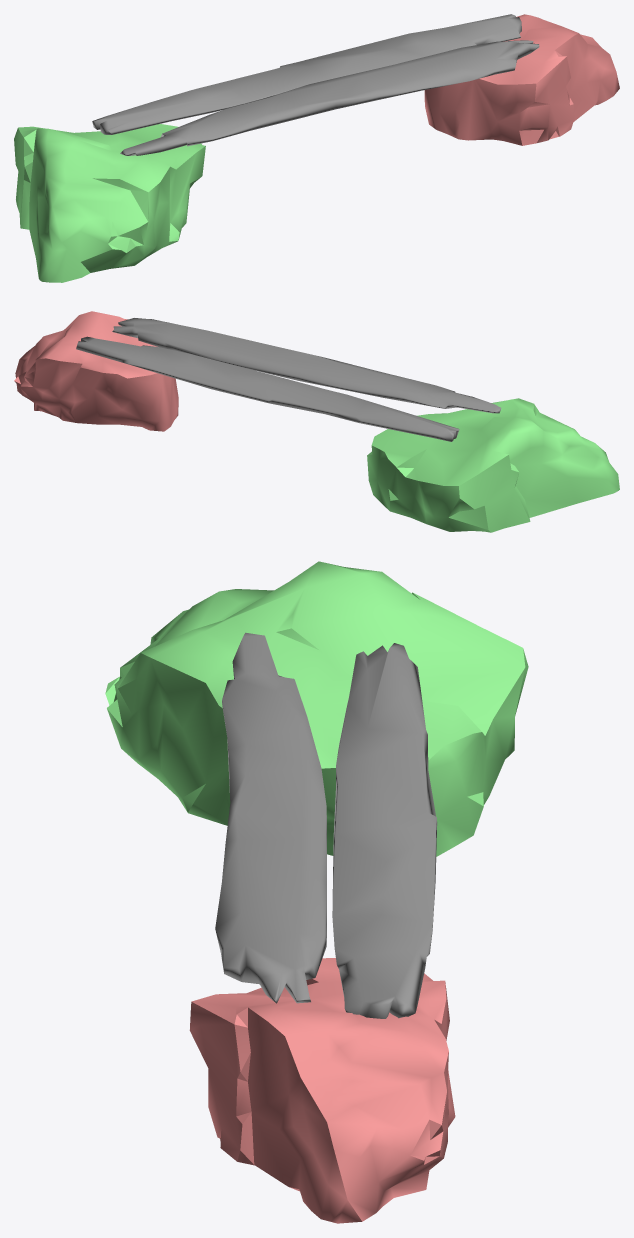
Rendered from bench_wooden_generic_village_A.gltf.
The picture shows the model from 3 angles, top to bottom: view 1: azimuth 30°, elevation 25°; view 2: azimuth 150°, elevation 25°; view 3: azimuth 270°, elevation 25°; orthographic projection. The views are drawn at different scales.
Parts seen in each view (by area): view 1: bench_wooden_generic_village_A; view 2: bench_wooden_generic_village_A; view 3: bench_wooden_generic_village_A.
Part boxes in pixels (x1,y1,x2,y2): bench_wooden_generic_village_A: [14, 14, 619, 282]; bench_wooden_generic_village_A: [14, 311, 619, 532]; bench_wooden_generic_village_A: [105, 561, 528, 1223].
Size of the model in its own units: 4.37 by 0.638 by 1.44.
